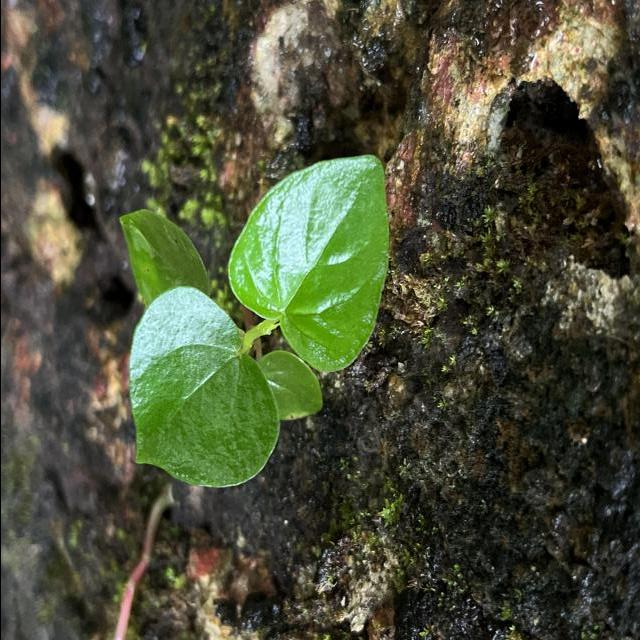Peperomia pellucida: (224, 152, 390, 375), (126, 284, 281, 490)
